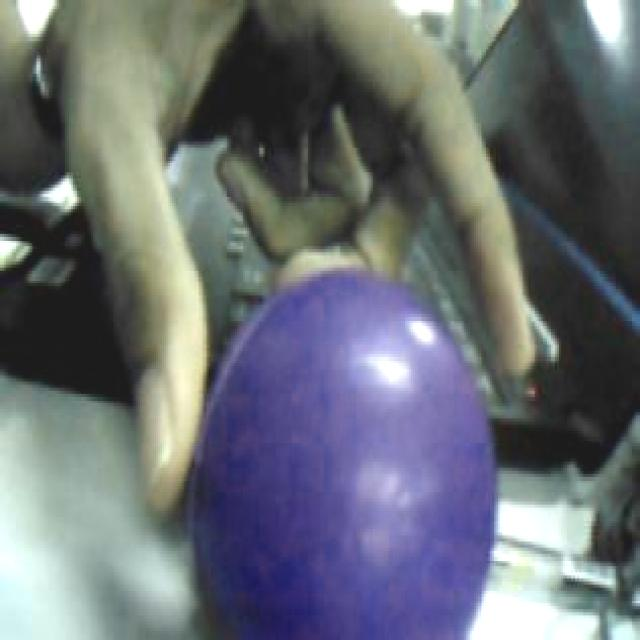BallPurple: (198, 270, 498, 640)
